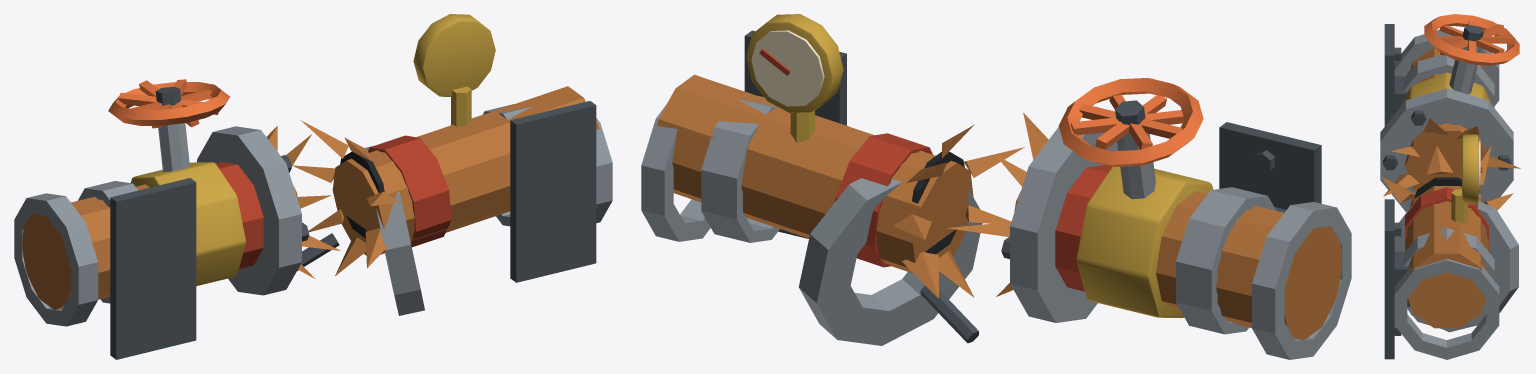
The model's file is Kit_BurstPipe.fbx.
3 views of the same model, side by side, from view 1: azimuth 30°, elevation 25°; view 2: azimuth 150°, elevation 25°; view 3: azimuth 270°, elevation 25° (orthographic). The views are drawn at different scales.
Visible parts, largest first — view 1: Pipe; view 2: Pipe; view 3: Pipe.
Boxes of the visible parts, box(x1,y1,x2,y2) form: Pipe: box(14, 14, 612, 359); Pipe: box(641, 14, 1351, 359); Pipe: box(1380, 14, 1520, 359).
Bounding box in the file's own units: 6.04 × 2.87 × 1.69.
